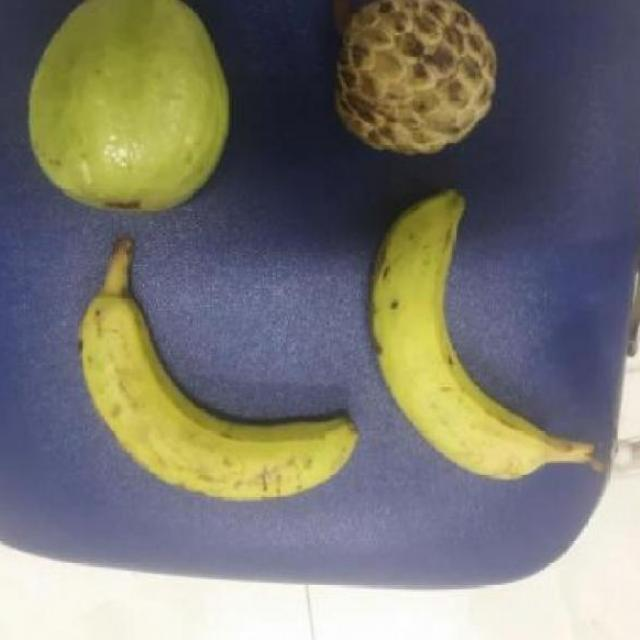banana: (72, 282, 370, 508), (368, 183, 566, 487)
guava: (25, 0, 242, 222)
sugar apple: (328, 0, 504, 164)
